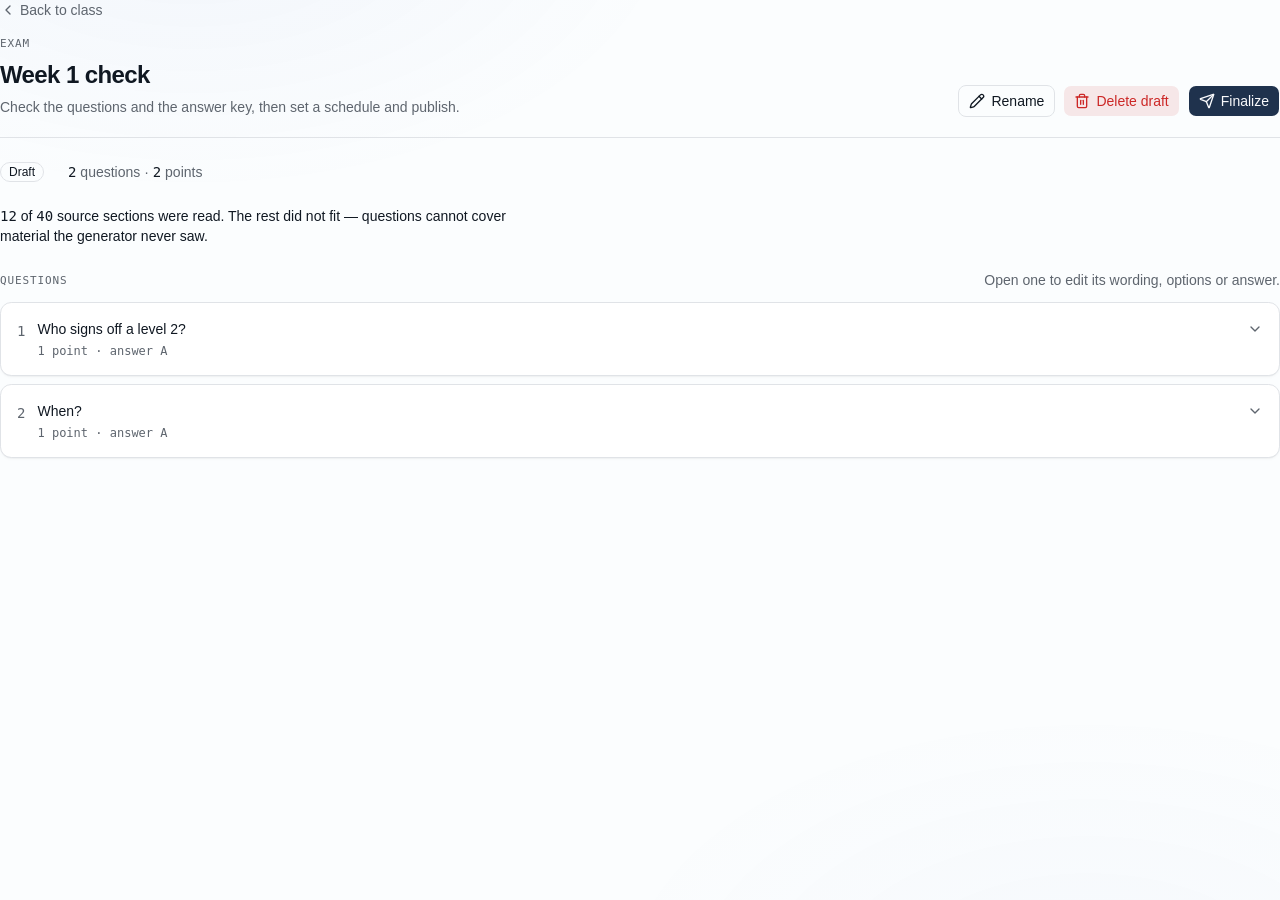
Test: ExerciseDetailPage › reports which parts of a half-failed save actually landed
Expected: the heading "Week 1 check" is shown, [0, 60, 150, 88]
Click the button "1 Who signs off a level 2? 1 point · answer A" at [112, 328], box [1, 302, 1279, 374]
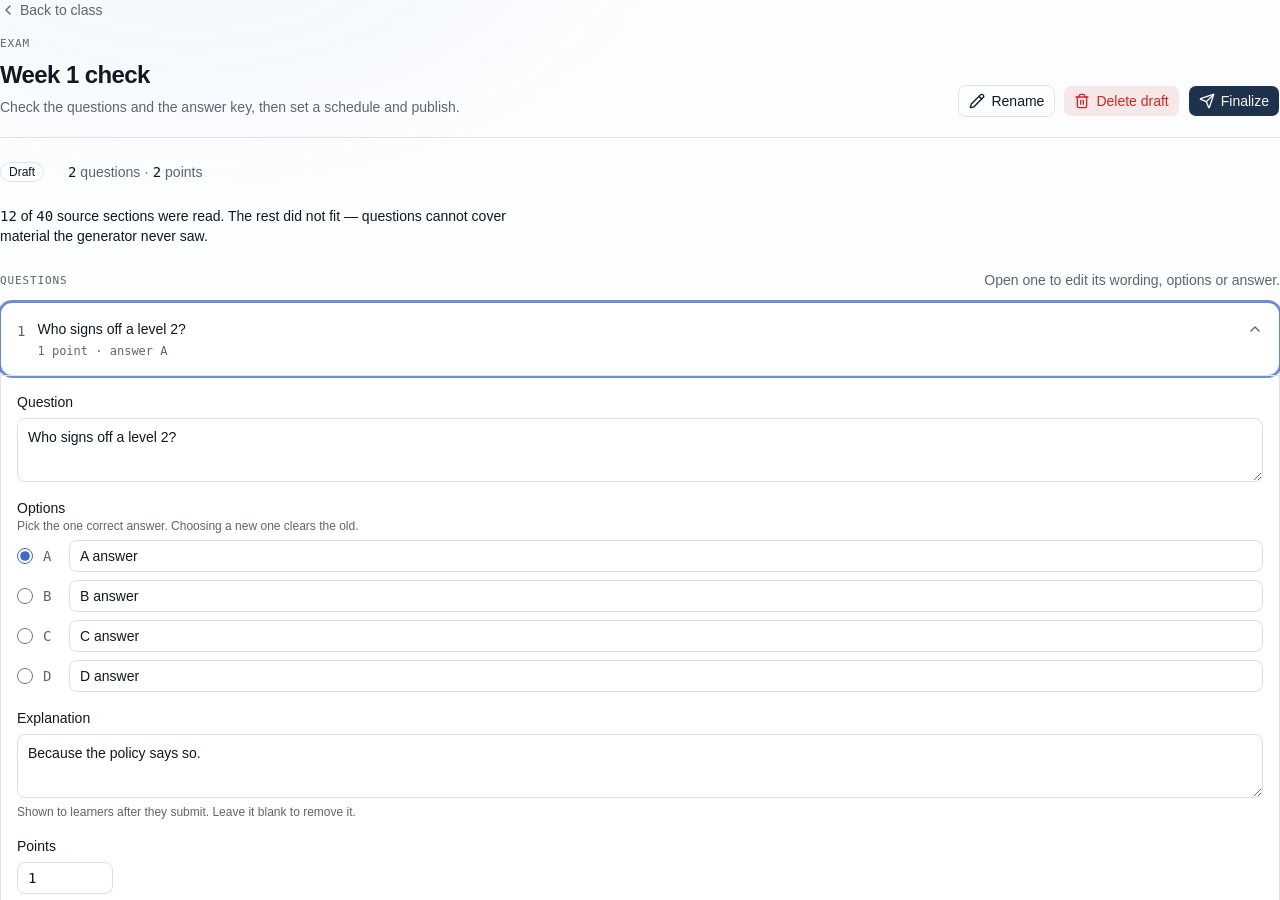
Type " exactly?" into the text box labelled "Question" at [640, 450], box [17, 418, 1263, 482]
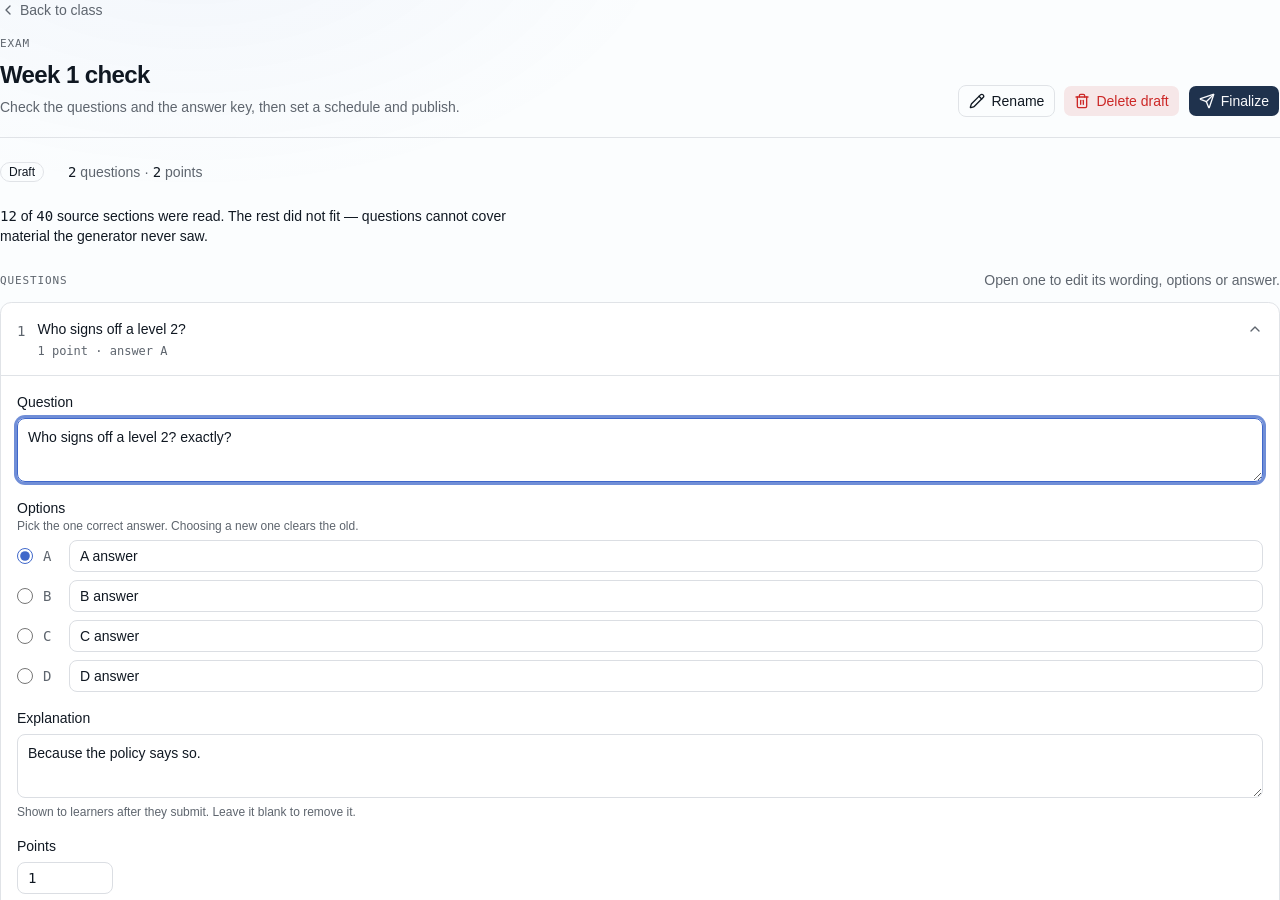
Replace the text in the field named "Option A text" with "The duty manager" at [666, 556], box [69, 540, 1263, 572]
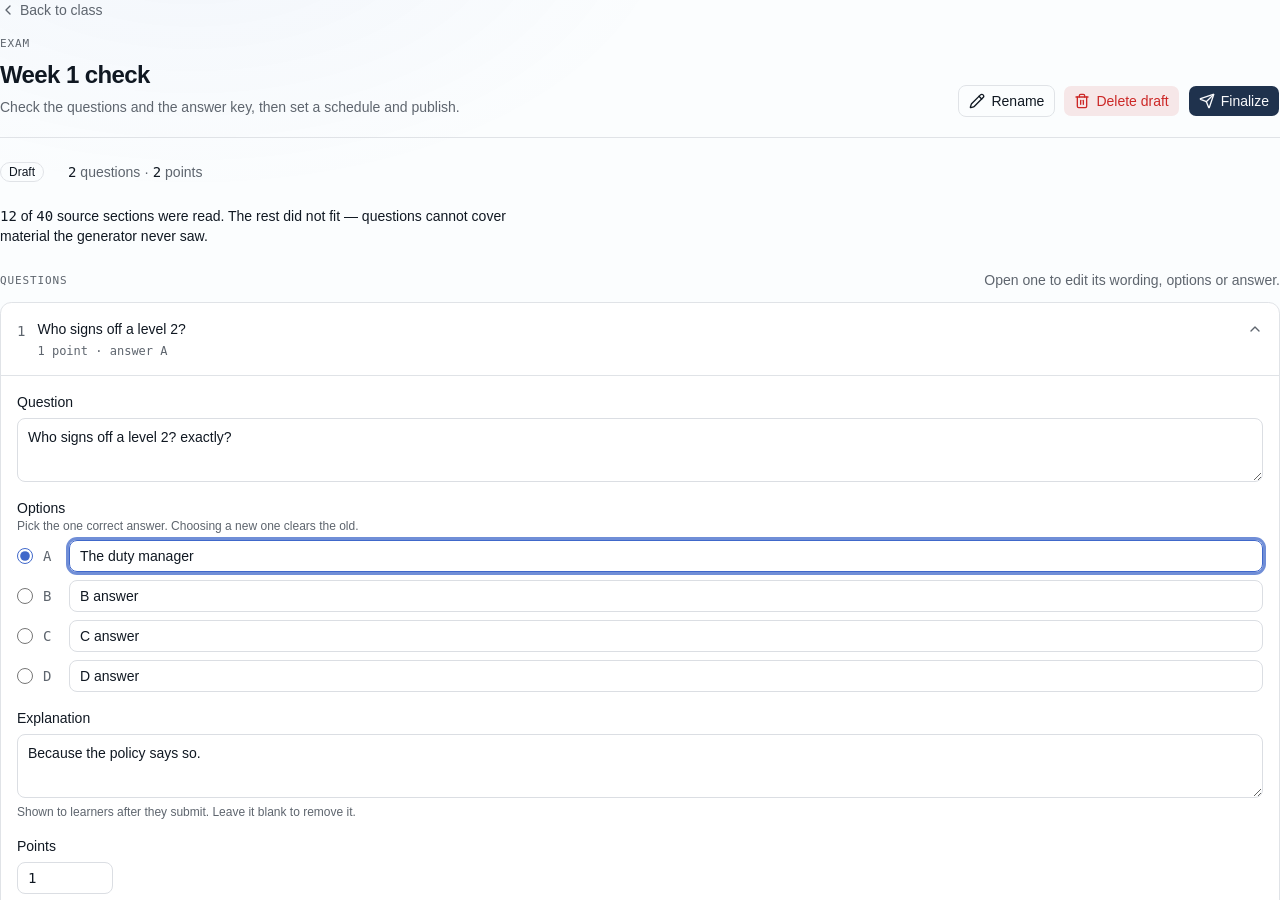
Replace the text in the field named "Option B text" with "The shift lead" at [666, 596], box [69, 580, 1263, 612]
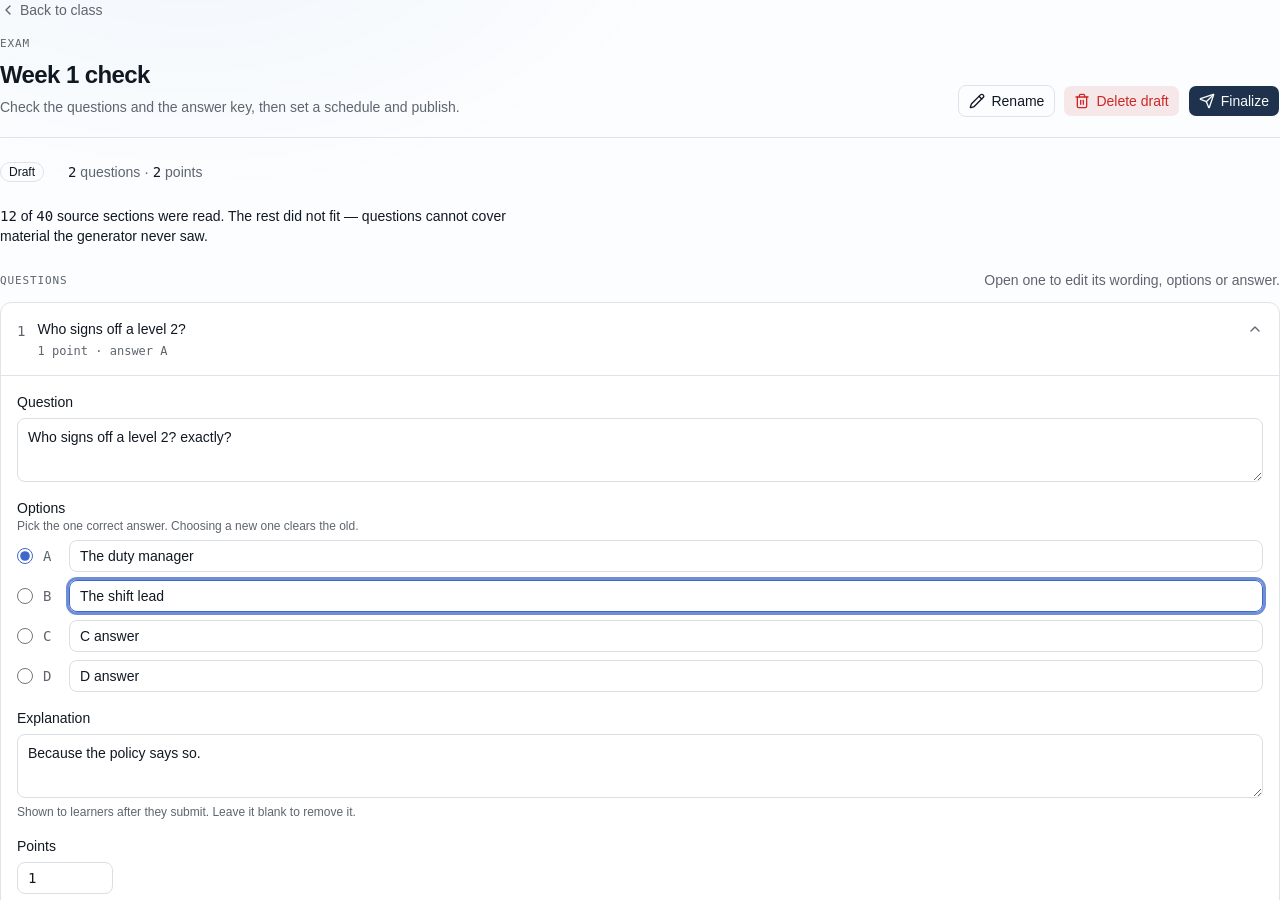
Click the radio button labelled "C" at [25, 636], box [17, 628, 33, 644]
(page scrolled)
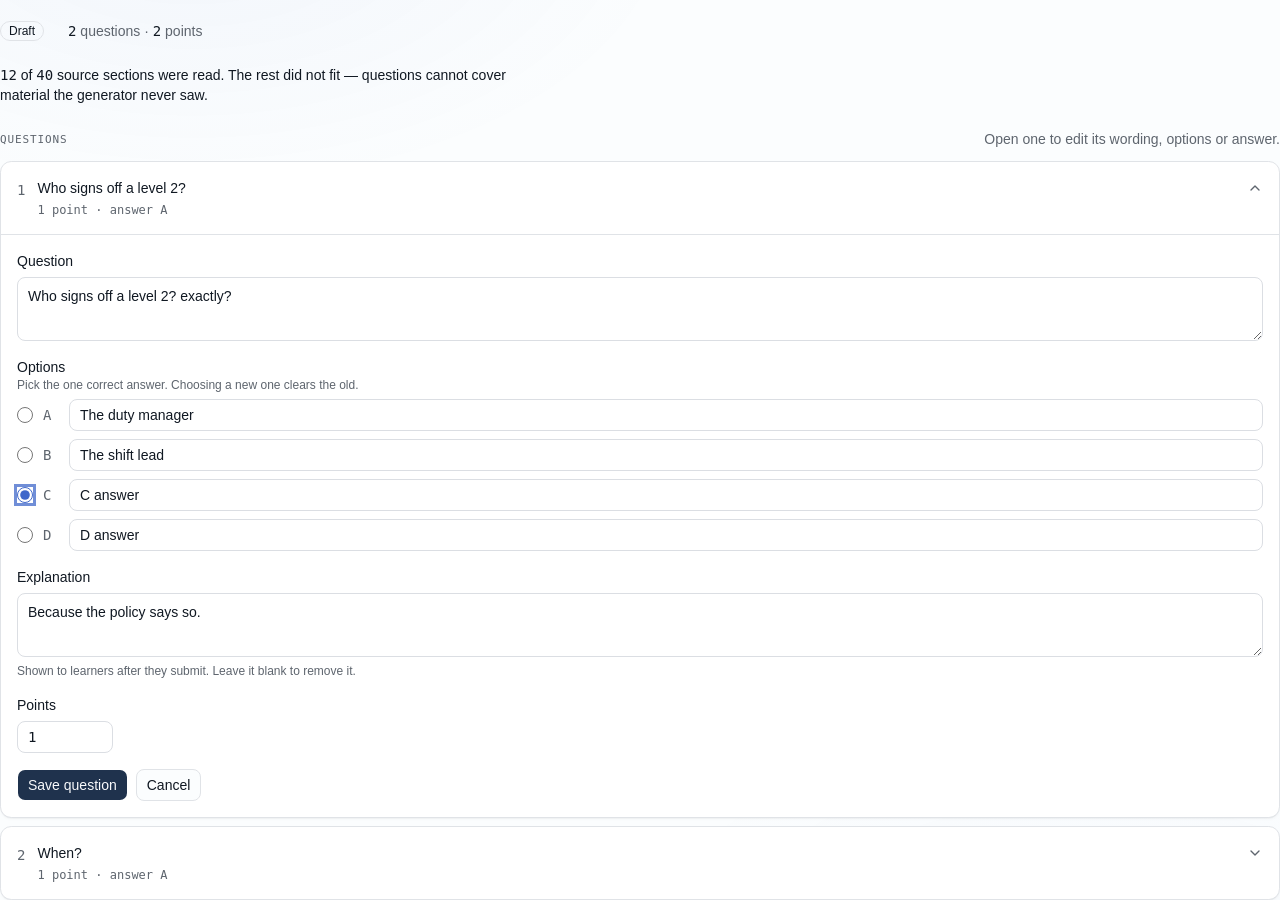
Click the button "Save question" at [72, 784], box [17, 768, 128, 800]
(page scrolled)
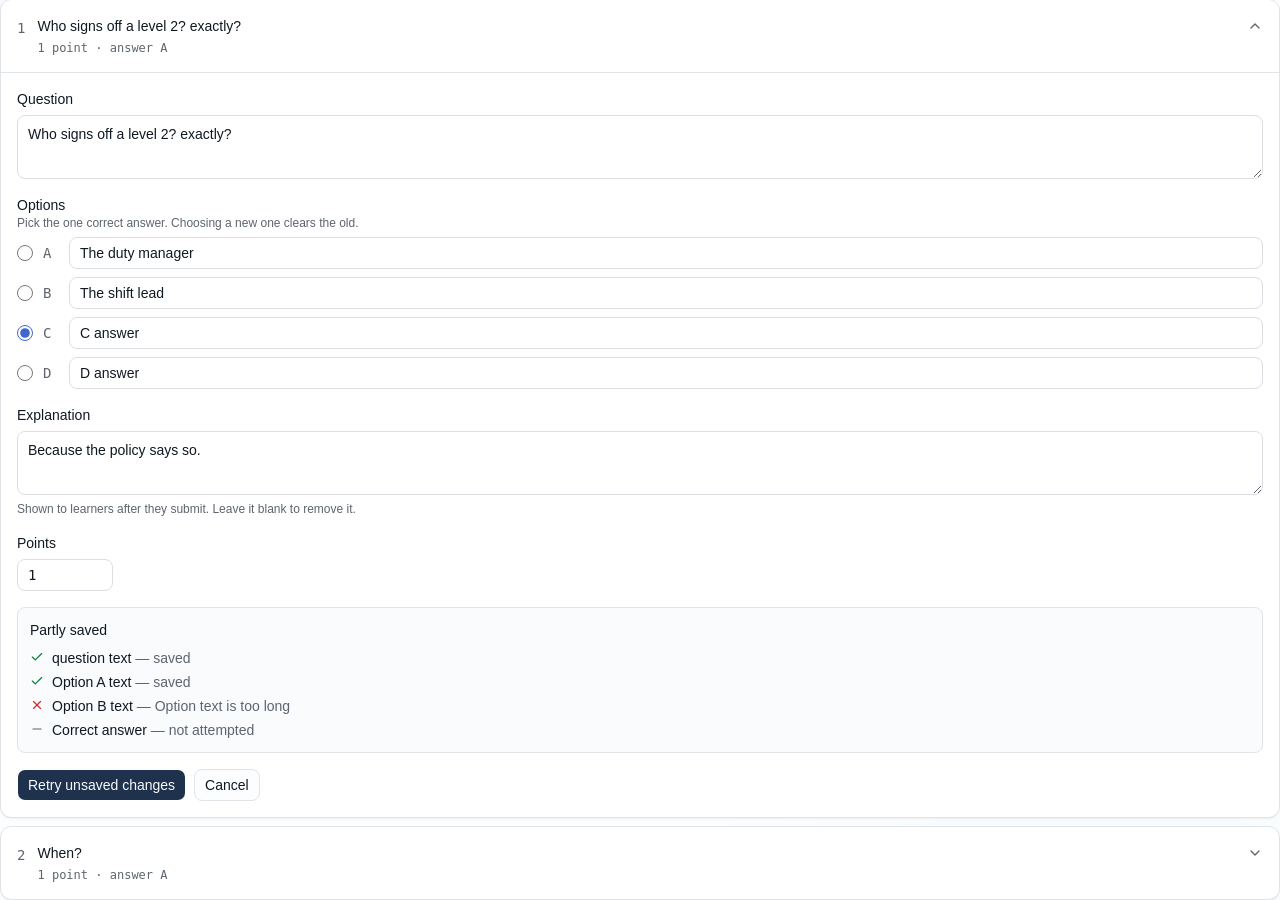
Expected: the text "Partly saved" is shown, [30, 622, 107, 638]
Expected: the list item "question text — saved" is shown, [30, 650, 190, 666]
Expected: the list item "Option A text — saved" is shown, [30, 674, 190, 690]
